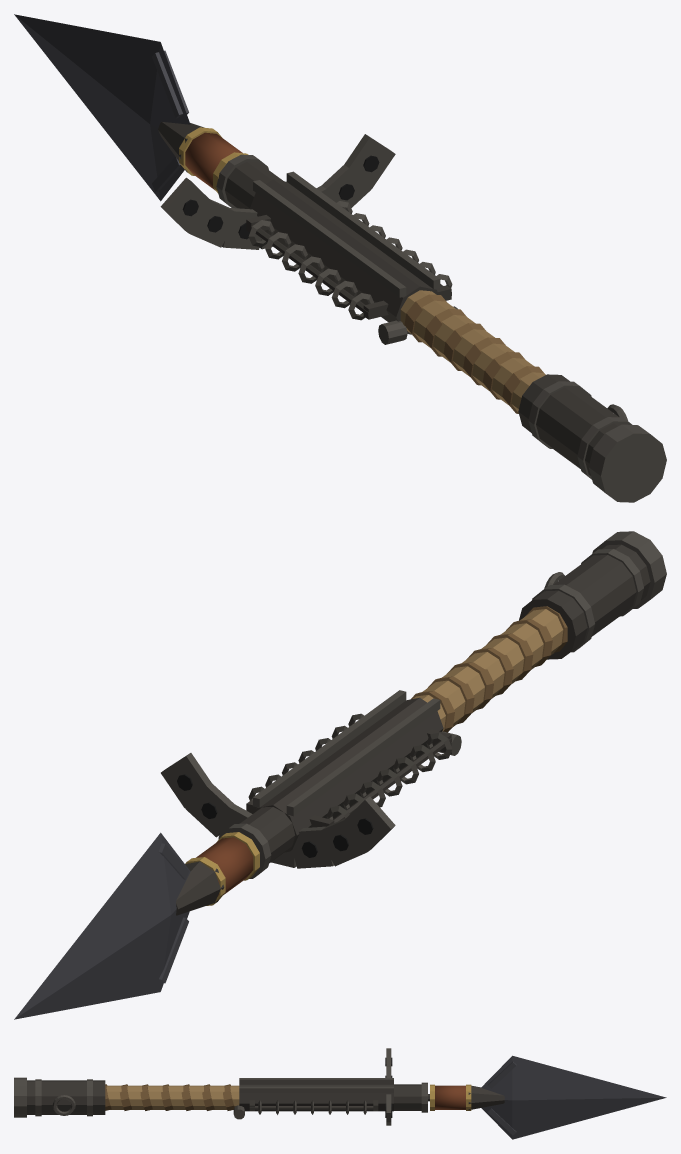
The model's file is lance.glb.
3 views of the same model, one above another, from view 1: azimuth 30°, elevation 25°; view 2: azimuth 150°, elevation 25°; view 3: azimuth 270°, elevation 25° (orthographic). The views are drawn at different scales.
Parts seen in each view (by area): view 1: Lance, LanceHarpoon; view 2: Lance, LanceHarpoon; view 3: Lance, LanceHarpoon.
Boxes of the visible parts, left/top/right/bottom form: Lance: left=160, top=134, right=666, bottom=502; LanceHarpoon: left=14, top=14, right=248, bottom=201; Lance: left=161, top=531, right=666, bottom=878; LanceHarpoon: left=14, top=832, right=259, bottom=1019; Lance: left=14, top=1048, right=427, bottom=1125; LanceHarpoon: left=428, top=1055, right=666, bottom=1139.
Bounding box in the file's own units: 0.272 × 0.18 × 1.27.
